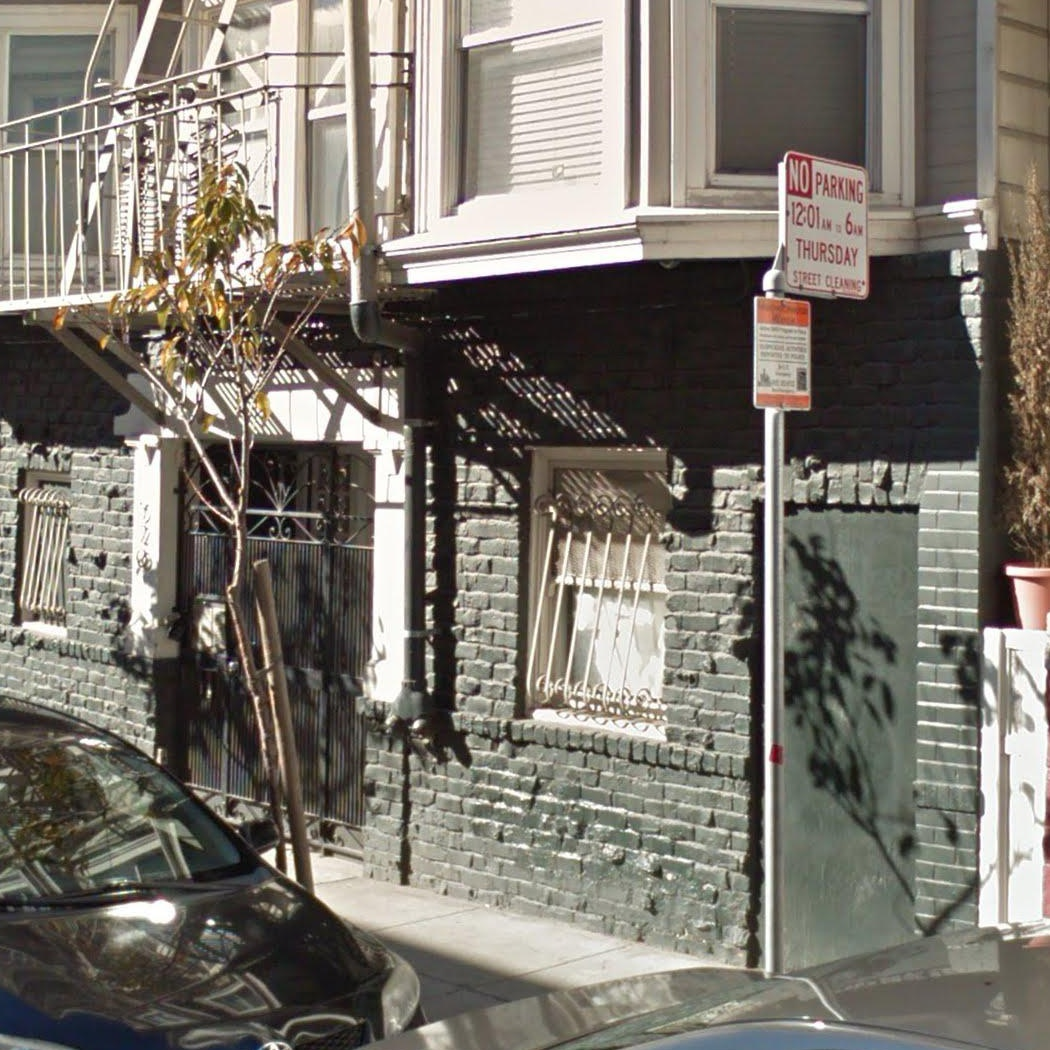No Parking: (782, 150, 871, 301)
